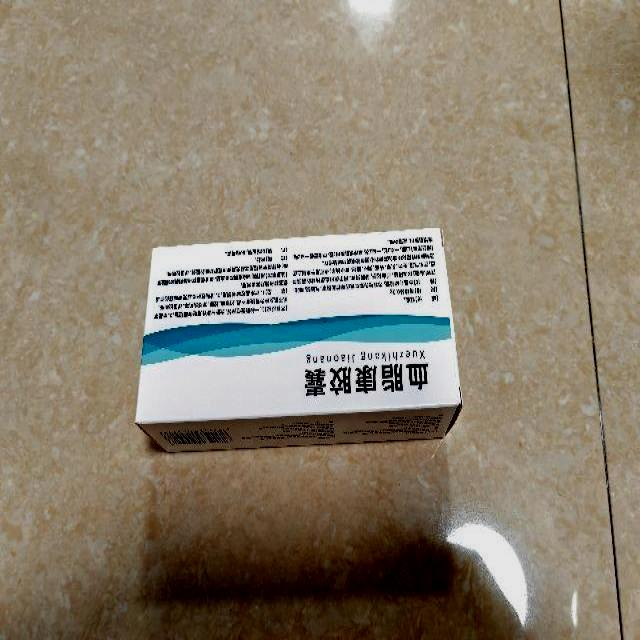box: (135, 226, 462, 454)
